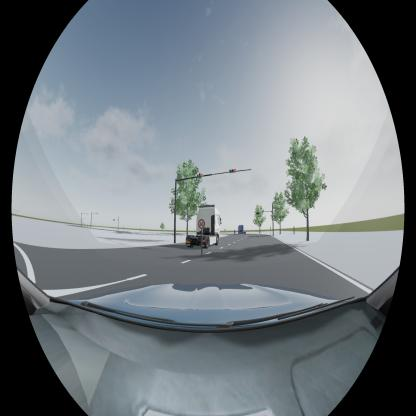Green Light: (255, 211, 262, 215)
Red Light: (196, 172, 204, 179), (228, 168, 237, 172)
Speed Limit 60: (198, 219, 205, 228)
